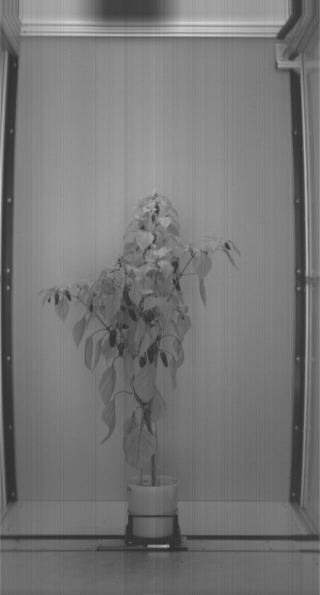bell-pepper fooled_you: (171, 256, 181, 290), (121, 285, 133, 305), (147, 306, 156, 328), (151, 202, 159, 226), (126, 306, 138, 321), (159, 348, 168, 367), (148, 231, 157, 250), (109, 328, 117, 348), (117, 339, 125, 358), (148, 342, 154, 365), (139, 352, 147, 369), (54, 287, 60, 306), (65, 288, 73, 302), (115, 322, 129, 329), (88, 295, 93, 314), (224, 241, 230, 250), (46, 295, 51, 303)
